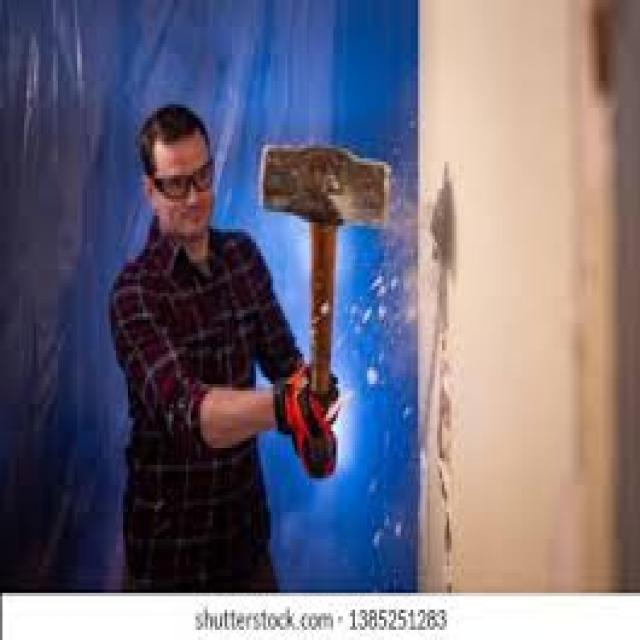hammer: (254, 110, 396, 410)
